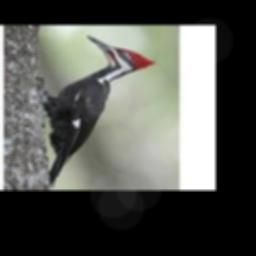Woodpecker: (42, 35, 157, 187)
